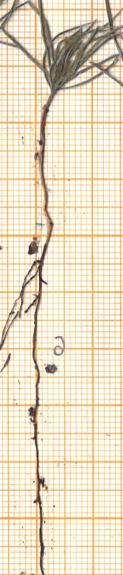flower: (0, 0, 123, 104)
root: (0, 223, 67, 575)
stem: (31, 94, 62, 227)
